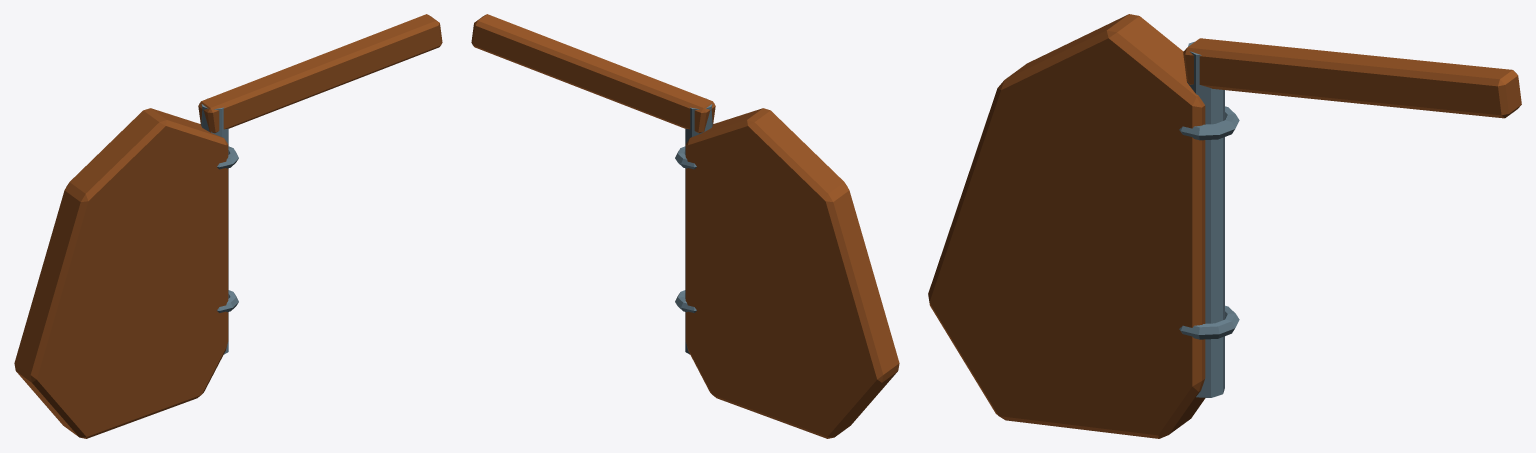
The model's file is EM_BoatRudder.fbx.
3 renders of one model, left to right at view 1: azimuth 30°, elevation 25°; view 2: azimuth 150°, elevation 25°; view 3: azimuth 330°, elevation 25°, orthographic. The views are drawn at different scales.
Parts seen in each view (by area): view 1: EM_BoatRudder; view 2: EM_BoatRudder; view 3: EM_BoatRudder.
Boxes of the visible parts, x1,y1,x2,y2 form: EM_BoatRudder: (14,14,442,438); EM_BoatRudder: (471,14,899,438); EM_BoatRudder: (928,14,1521,438).
Size of the model in its own units: 1.18 by 0.8944 by 0.1141.
